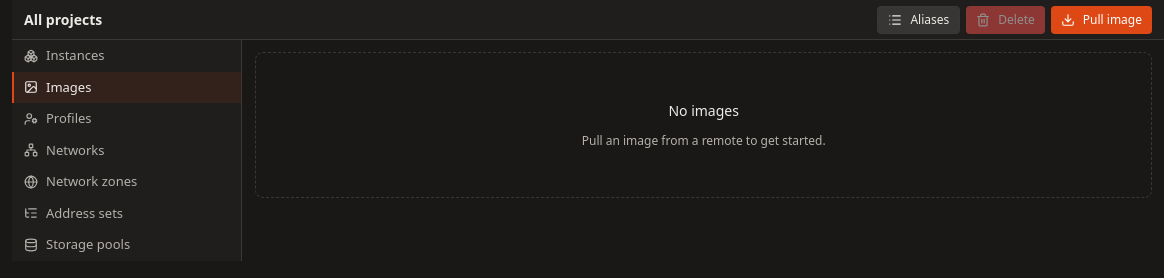
Test: ProjectOverview › switches tabs via query param
Expected: the element with test id "images-page" is shown, [243, 52, 1163, 198]
Click the tab with test id "vtab-instances": (127, 56) [12, 40, 241, 72]
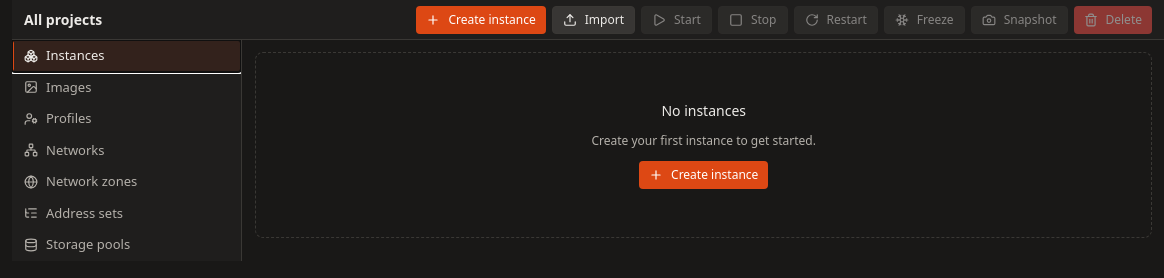
Expected: the element with test id "instances-page" is shown, [243, 52, 1163, 238]
